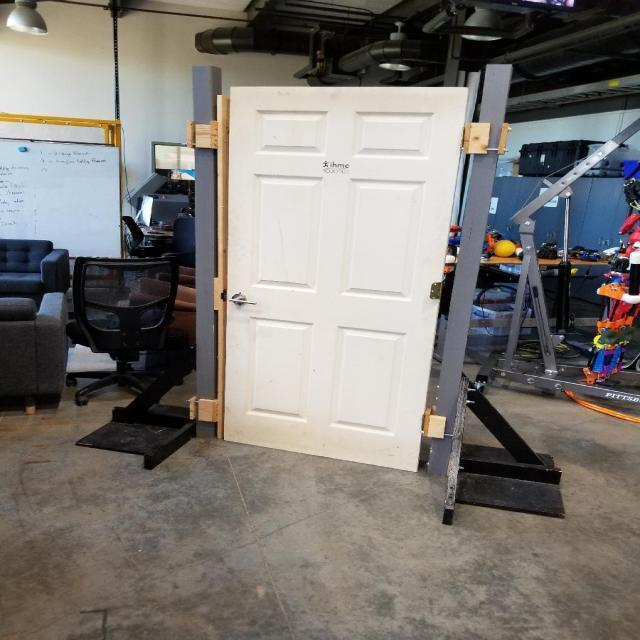door: (222, 82, 472, 482), (227, 294, 260, 308)
